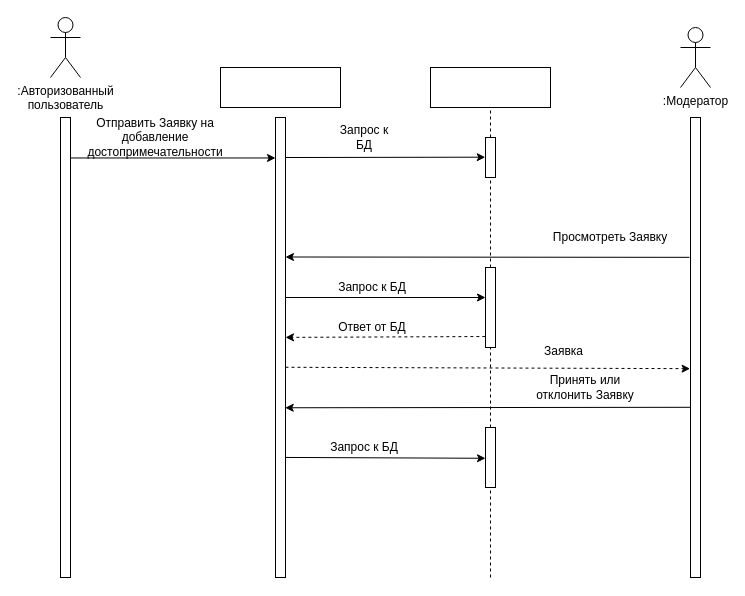
This 745x596 diagram has some shape labels left out. The centre of each missing label's shape, as x and y in pixels:
":БД" goes at (490,87).
":Система" goes at (280,87).
